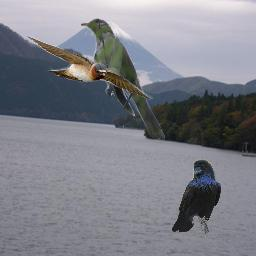Crow: (172, 159, 221, 234)
Cuckoo: (81, 18, 168, 141)
Swallow: (24, 33, 153, 100)
